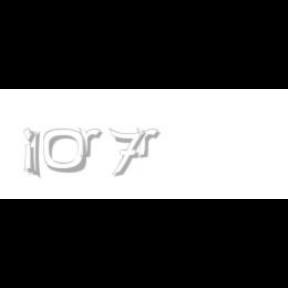7: (108, 128, 145, 178)
O: (42, 128, 88, 174)
i: (23, 128, 39, 176)
l: (29, 128, 45, 180)
r: (78, 128, 106, 158), (136, 128, 164, 158)
